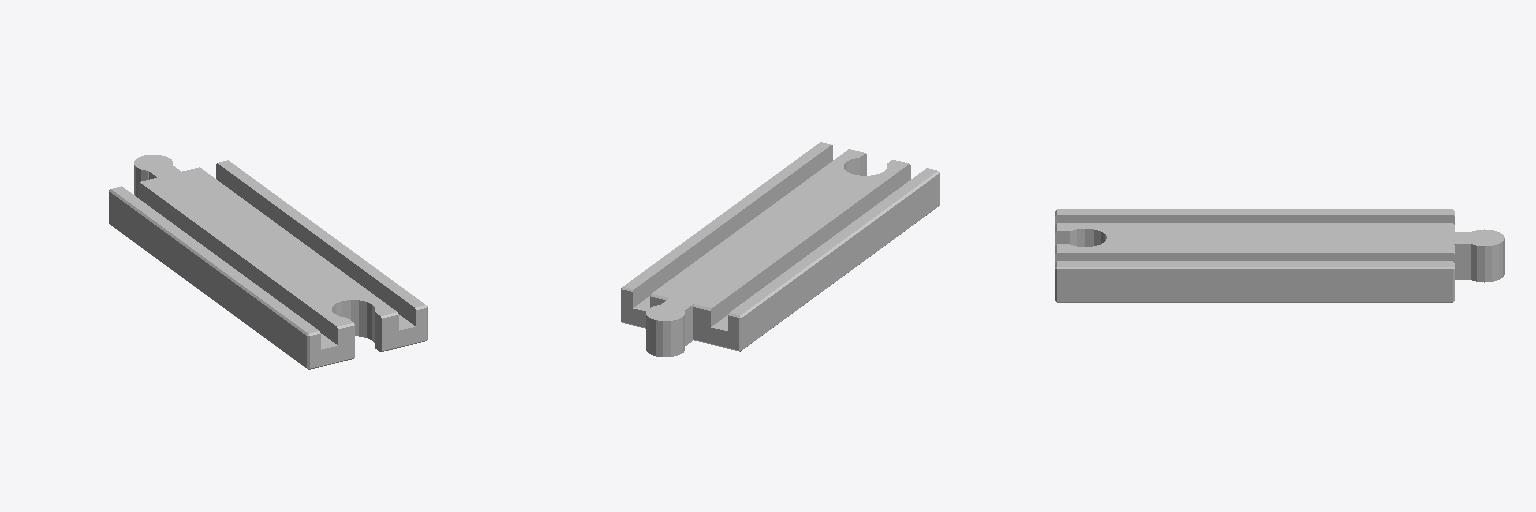
The model's file is train_track_straight.obj.
The picture shows the model from 3 angles: view 1: azimuth 30°, elevation 25°; view 2: azimuth 150°, elevation 25°; view 3: azimuth 270°, elevation 25°; orthographic projection.
Visible parts, largest first — view 1: Straight_Track_Final; view 2: Straight_Track_Final; view 3: Straight_Track_Final.
Boxes of the visible parts, x1,y1,x2,y2 form: Straight_Track_Final: [109, 155, 427, 369]; Straight_Track_Final: [621, 142, 939, 356]; Straight_Track_Final: [1055, 209, 1504, 302].
Bounding box in the file's own units: 0.7 × 0.2 × 2.25.